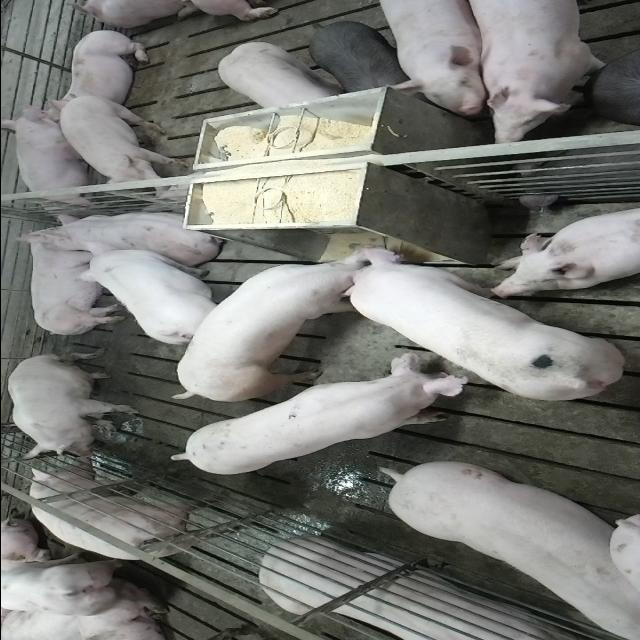Feeding: (342, 242, 626, 403), (164, 248, 384, 408)
Lateral_lying: (11, 224, 130, 338)
Sitting: (6, 354, 138, 460)
Standing: (375, 456, 635, 636), (165, 358, 469, 478), (459, 2, 614, 142), (27, 459, 238, 559), (76, 248, 232, 346), (370, 3, 486, 118), (59, 94, 187, 192), (215, 42, 342, 110), (304, 21, 416, 94), (1, 605, 166, 640), (591, 37, 640, 123)
Sternal_lying: (260, 540, 602, 640), (488, 203, 640, 294), (36, 205, 236, 263), (48, 28, 154, 118)
